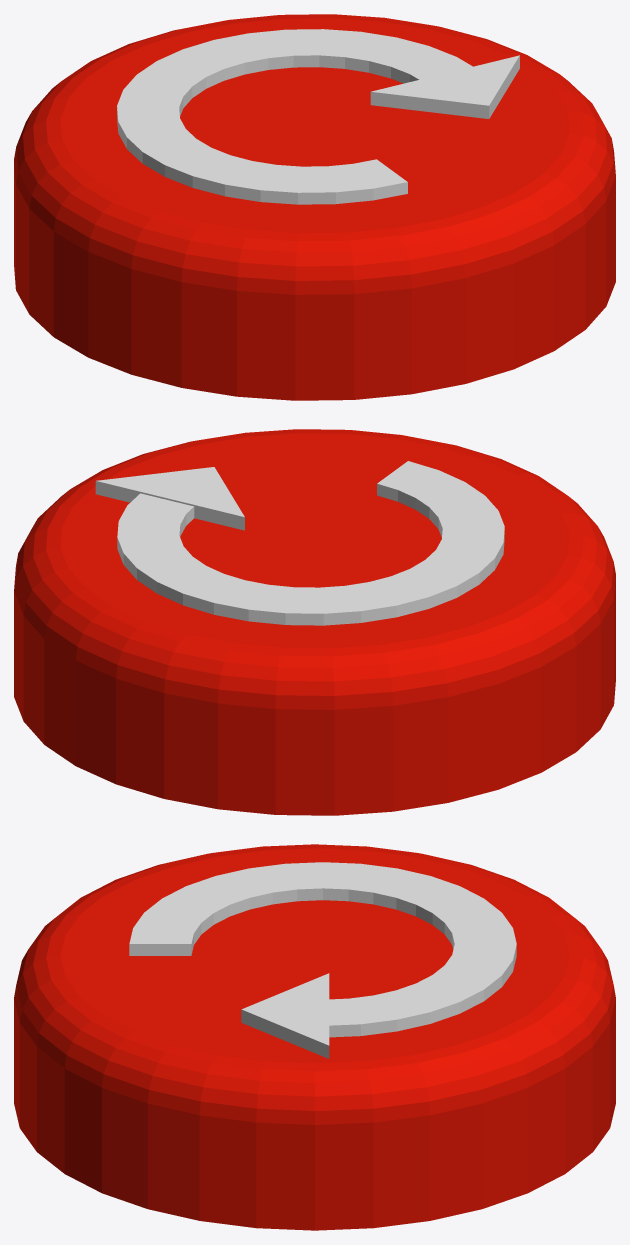
Rendered from button_clockwise.fbx.
3 renders of one model, top to bottom at view 1: azimuth 30°, elevation 25°; view 2: azimuth 150°, elevation 25°; view 3: azimuth 270°, elevation 25°, orthographic.
Visible parts, largest first — view 1: Circle.001; view 2: Circle.001; view 3: Circle.001.
Part boxes in pixels (x1,y1,x2,y2): Circle.001: [14, 14, 615, 400]; Circle.001: [14, 429, 615, 815]; Circle.001: [14, 844, 615, 1230].
Bounding box in the file's own units: 50.02 × 14.75 × 50.02.
